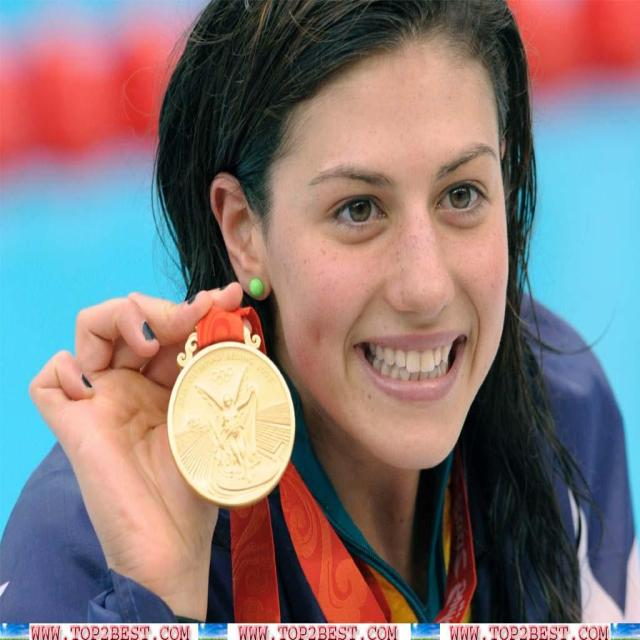Face: (262, 22, 526, 490)
